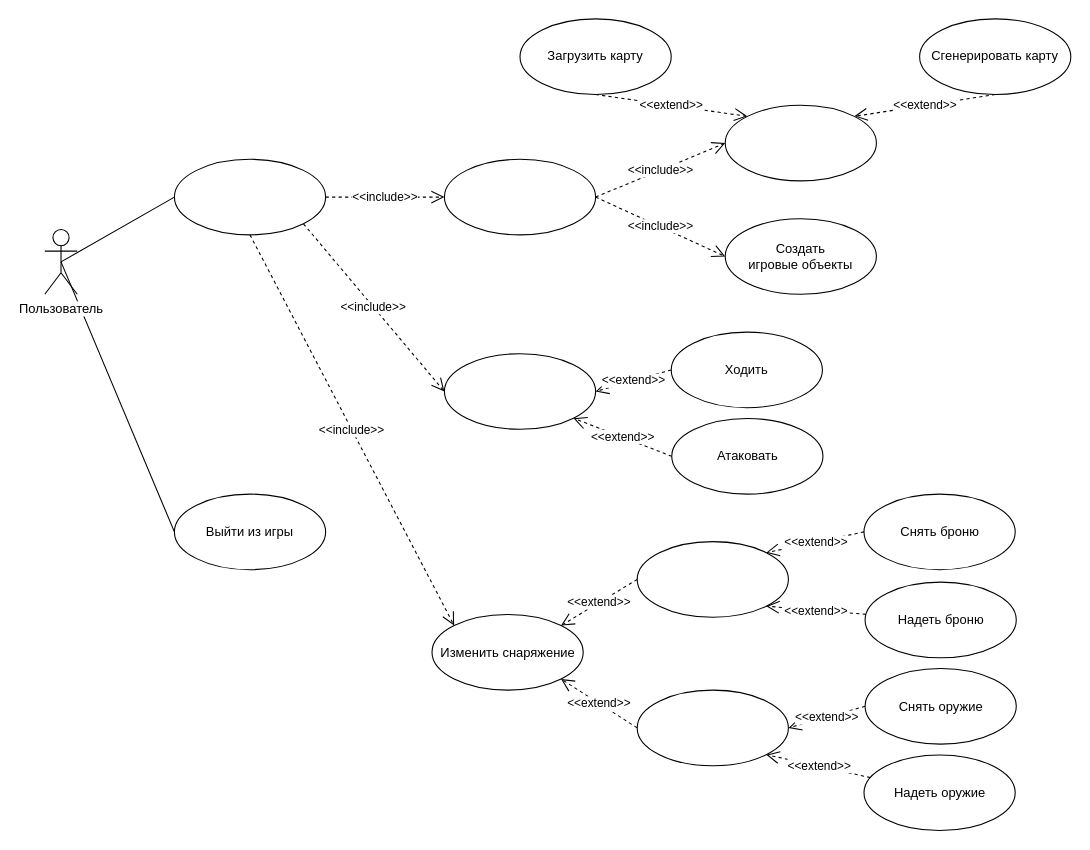
Image size: 1090x850. Some labels were removed from this diagram. Each missing label, with the centre of its shape:
Изменить броню: point (712, 579)
Изменить оружие: point (712, 727)
Начать игру: point (249, 196)
Создать карту: point (800, 142)
Создать мир: point (519, 196)
Управлять персонажем: point (519, 391)
